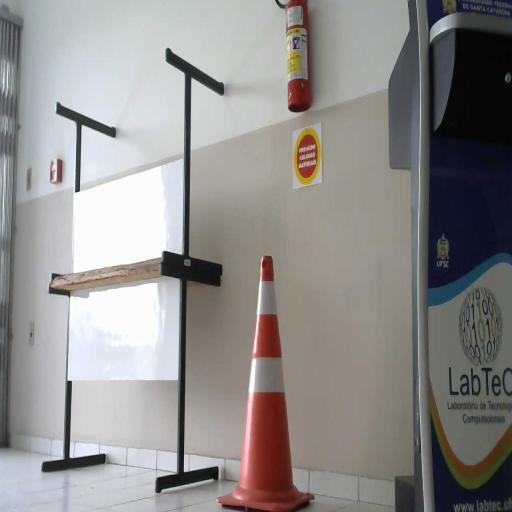cone: (220, 253, 314, 511)
